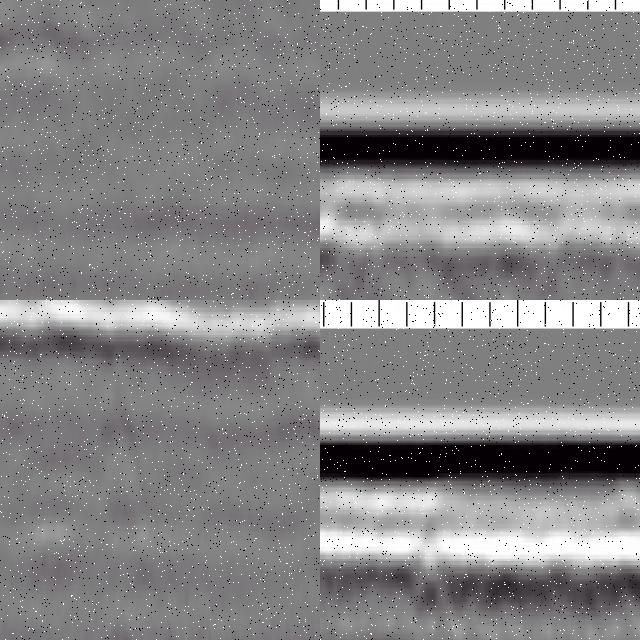loose: (321, 234, 550, 301)
